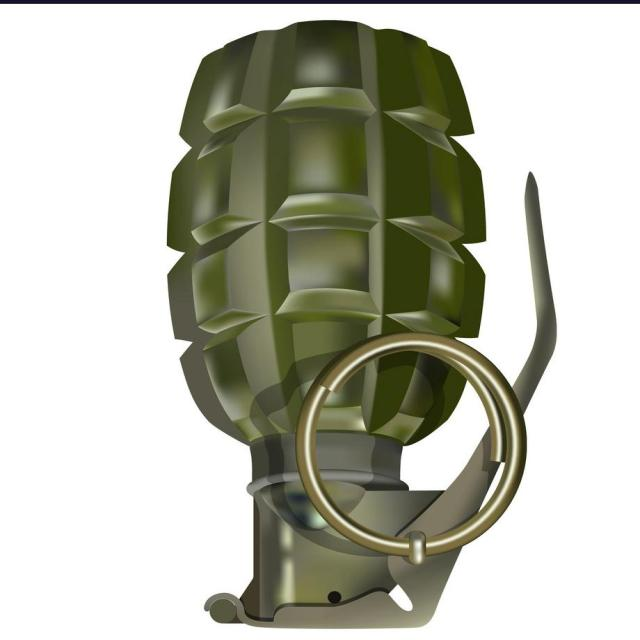grenade: (167, 20, 559, 630)
